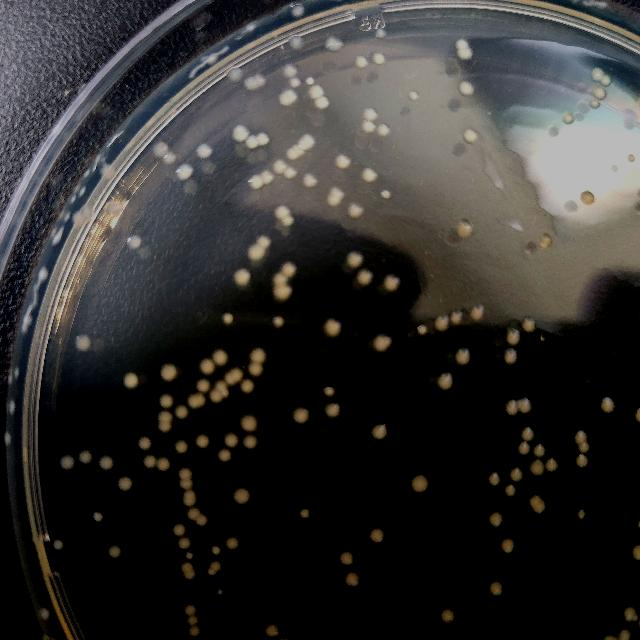colony: (373, 333, 392, 353), (410, 473, 430, 492), (324, 318, 342, 337), (232, 124, 250, 142), (346, 250, 364, 268), (273, 284, 293, 300), (298, 132, 314, 152), (384, 274, 401, 292), (326, 36, 344, 52), (176, 164, 194, 180), (248, 244, 266, 260), (234, 268, 250, 286), (160, 365, 178, 381), (212, 349, 228, 367), (100, 162, 116, 180), (457, 221, 473, 239), (292, 408, 310, 424), (324, 402, 342, 418), (241, 413, 257, 431), (278, 90, 298, 104), (52, 225, 66, 245), (242, 21, 262, 35), (233, 488, 250, 504), (372, 424, 388, 441), (506, 328, 520, 347), (153, 142, 169, 158), (335, 154, 351, 170), (348, 201, 364, 217), (124, 372, 140, 388), (201, 358, 217, 374), (470, 305, 486, 321), (282, 262, 298, 278), (344, 571, 360, 587), (249, 347, 265, 363), (98, 455, 114, 471), (59, 454, 75, 470), (118, 476, 134, 492), (264, 621, 280, 637), (288, 36, 306, 50), (438, 372, 452, 390), (226, 68, 244, 82), (504, 348, 518, 366), (601, 396, 615, 414), (506, 399, 520, 416), (530, 459, 544, 476), (302, 173, 318, 187), (274, 205, 290, 219), (127, 234, 141, 250), (456, 348, 470, 364), (274, 272, 290, 286), (490, 581, 504, 597), (440, 608, 454, 624), (370, 527, 384, 543), (240, 378, 254, 394), (244, 434, 258, 450), (175, 404, 189, 420), (78, 449, 92, 465), (518, 398, 532, 414), (518, 439, 532, 455), (533, 442, 547, 458), (509, 466, 523, 482), (488, 512, 504, 526), (500, 538, 514, 554), (107, 544, 121, 560), (624, 604, 636, 622), (197, 378, 210, 394), (225, 370, 238, 386), (198, 144, 212, 158), (163, 150, 177, 164), (250, 175, 264, 189), (256, 132, 270, 146), (362, 168, 376, 182), (358, 270, 372, 284), (257, 234, 271, 248), (106, 203, 120, 217), (283, 64, 297, 78), (316, 96, 330, 110), (76, 336, 90, 350), (435, 316, 449, 330), (244, 76, 258, 90), (460, 81, 474, 95), (464, 128, 478, 142), (362, 120, 376, 134), (364, 106, 378, 120), (248, 363, 262, 377), (160, 394, 174, 408), (138, 436, 152, 450), (218, 448, 232, 462), (196, 434, 210, 448), (174, 440, 188, 454), (522, 318, 536, 332), (575, 454, 589, 468), (188, 624, 202, 638), (186, 507, 200, 521), (178, 536, 192, 550), (330, 185, 344, 199), (274, 158, 286, 174), (254, 72, 266, 88), (458, 47, 474, 59), (592, 66, 604, 82), (340, 550, 352, 566), (232, 366, 244, 382), (522, 426, 534, 442), (505, 482, 517, 498), (172, 522, 184, 538), (326, 194, 342, 206), (157, 457, 170, 471), (532, 501, 546, 514), (38, 264, 48, 282), (74, 211, 85, 227), (284, 166, 298, 178), (246, 134, 258, 148), (310, 86, 324, 98), (451, 311, 463, 325), (206, 52, 218, 66), (286, 147, 298, 161), (293, 142, 305, 156), (580, 192, 594, 204), (594, 85, 606, 99), (539, 234, 551, 248), (618, 628, 632, 640), (226, 536, 238, 550), (226, 433, 238, 447), (188, 394, 200, 408), (546, 458, 558, 472), (574, 430, 586, 444), (184, 603, 196, 617), (196, 512, 208, 526), (632, 542, 640, 562), (182, 570, 198, 580), (4, 428, 12, 448), (179, 466, 191, 479), (187, 614, 200, 626), (158, 411, 172, 422), (196, 392, 207, 406), (179, 478, 193, 489), (292, 4, 304, 16), (262, 170, 274, 182), (378, 124, 390, 136), (210, 390, 222, 402), (144, 456, 156, 468), (488, 472, 500, 484), (8, 397, 16, 415), (81, 206, 93, 218), (356, 54, 366, 68), (374, 52, 384, 66), (324, 384, 334, 398), (158, 422, 172, 432), (39, 606, 49, 620), (180, 562, 194, 572), (215, 381, 227, 392), (457, 39, 468, 50), (223, 314, 235, 324), (274, 315, 284, 327), (418, 324, 428, 336), (409, 90, 419, 102), (563, 112, 573, 124), (206, 566, 218, 576), (210, 560, 222, 570), (530, 495, 540, 507), (94, 512, 104, 524), (578, 443, 590, 453), (61, 212, 70, 225), (289, 77, 301, 86), (82, 168, 91, 180), (283, 215, 293, 225), (376, 28, 386, 38), (590, 98, 600, 108), (601, 76, 611, 86), (300, 508, 310, 518), (185, 551, 195, 561), (54, 540, 64, 550), (578, 508, 586, 520), (79, 186, 87, 198), (595, 2, 609, 8), (628, 154, 636, 164), (211, 546, 221, 554), (220, 389, 230, 397), (382, 190, 391, 198), (14, 368, 20, 380), (69, 193, 75, 204), (306, 77, 314, 85), (216, 588, 224, 596)
